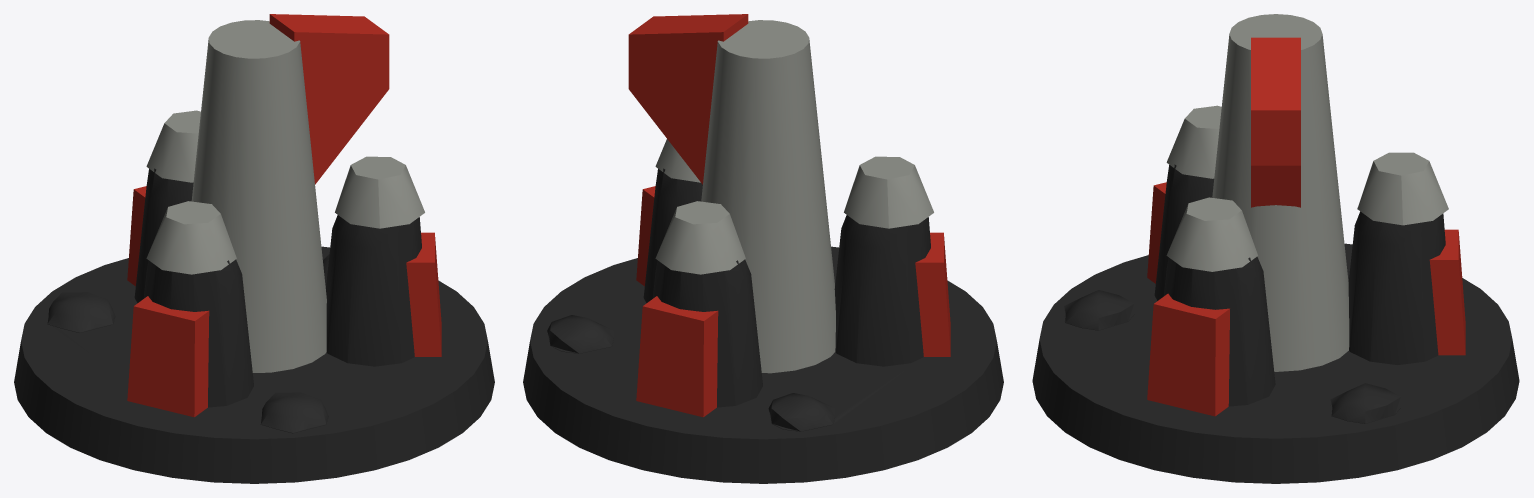
The model's file is ork_horde_3.glb.
3 renders of one model, left to right at view 1: azimuth 30°, elevation 25°; view 2: azimuth 150°, elevation 25°; view 3: azimuth 270°, elevation 25°, orthographic.
Parts seen in each view (by area): view 1: ork_horde_3; view 2: ork_horde_3; view 3: ork_horde_3.
Part boxes in pixels (x1,y1,x2,y2): ork_horde_3: (14, 14, 494, 483); ork_horde_3: (523, 14, 1003, 483); ork_horde_3: (1032, 14, 1519, 483).
Bounding box in the file's own units: 13.6 × 11 × 13.6.
